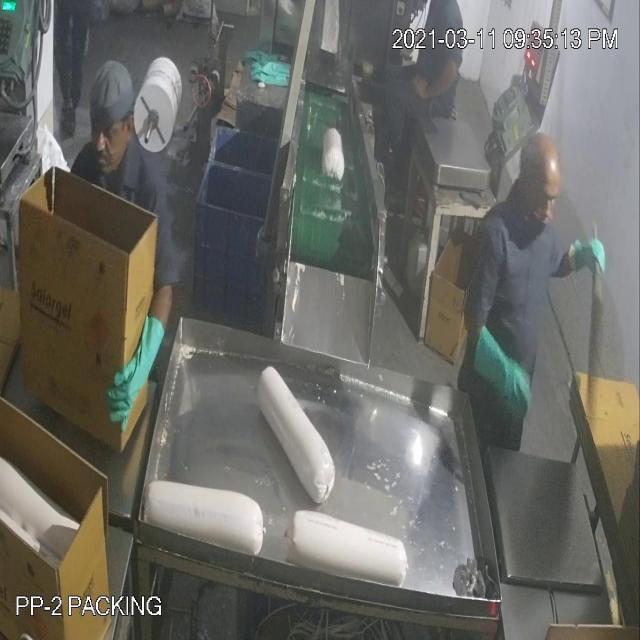No_Gloves: (50, 66, 586, 374)
